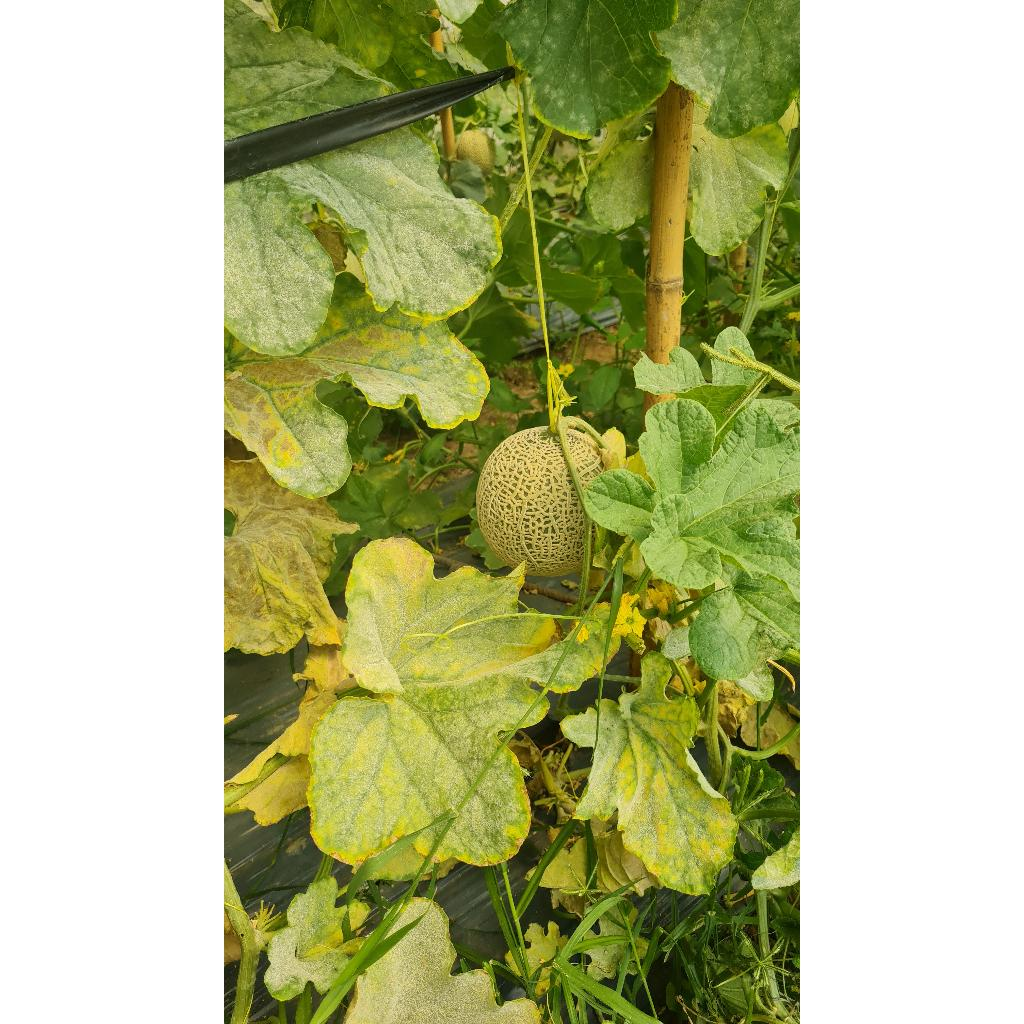melon: (476, 426, 584, 576), (568, 430, 602, 486)
